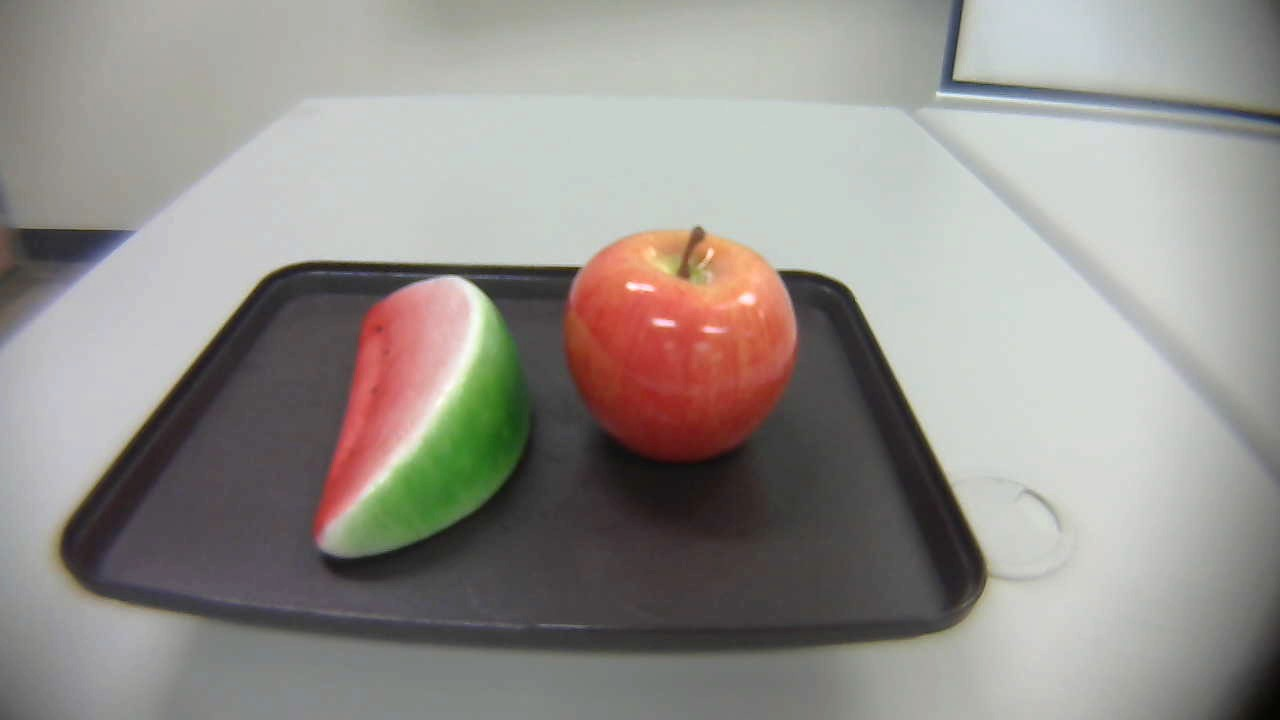red apple: (565, 222, 796, 476)
water melon: (305, 272, 536, 577)
